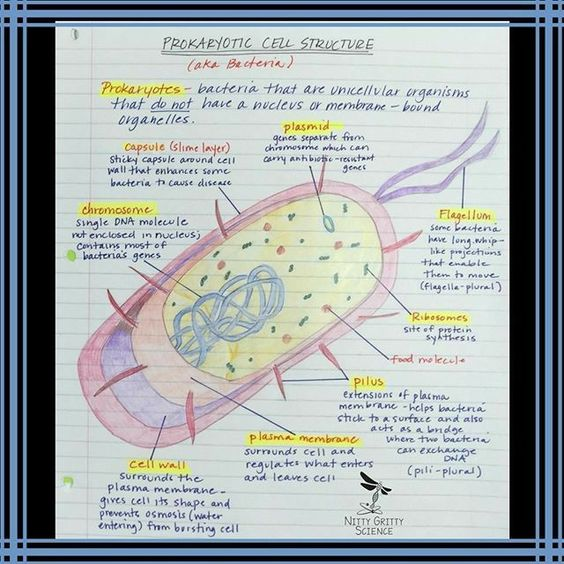page: (57, 30, 507, 538)
